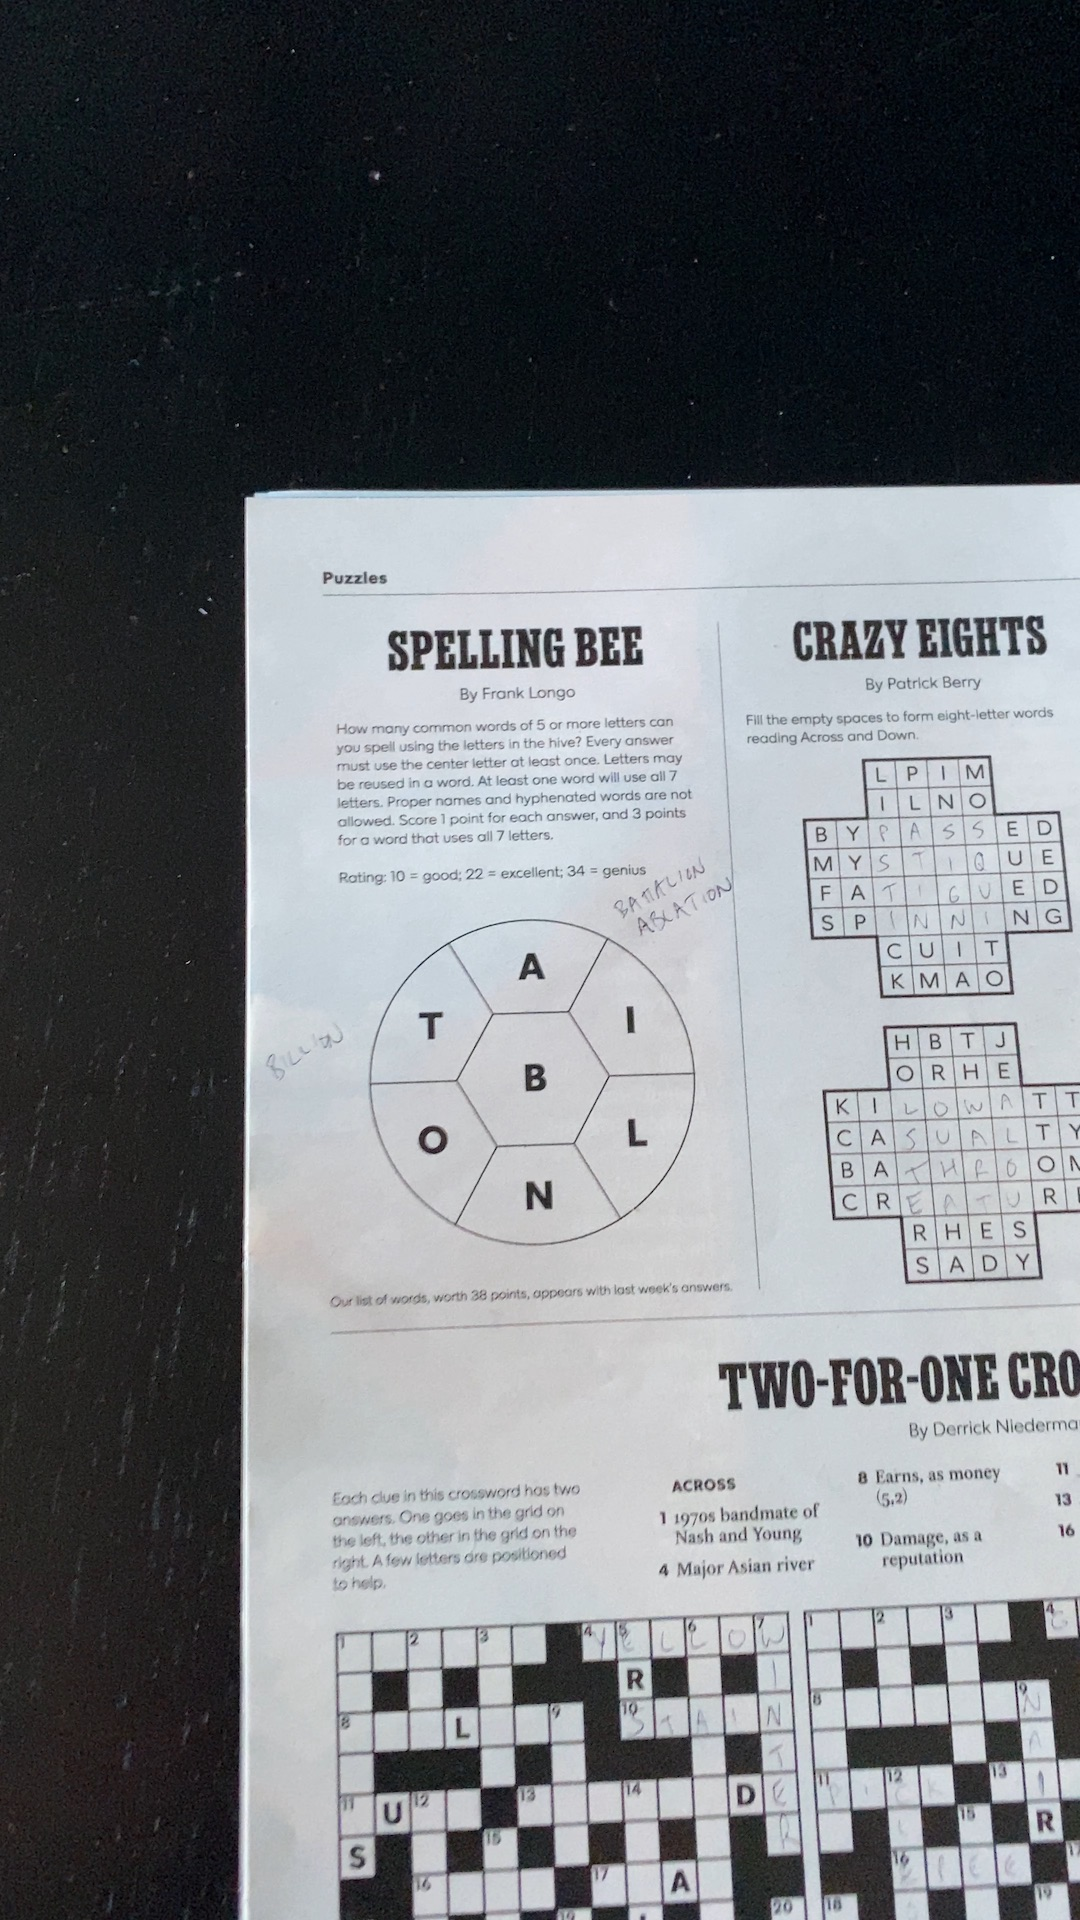PrintBoard: (352, 913, 712, 1257)
